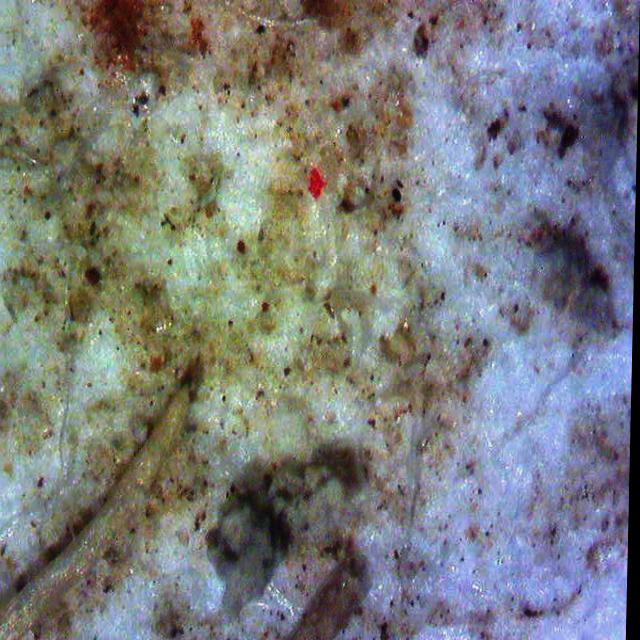microplastic: (305, 166, 330, 202)
